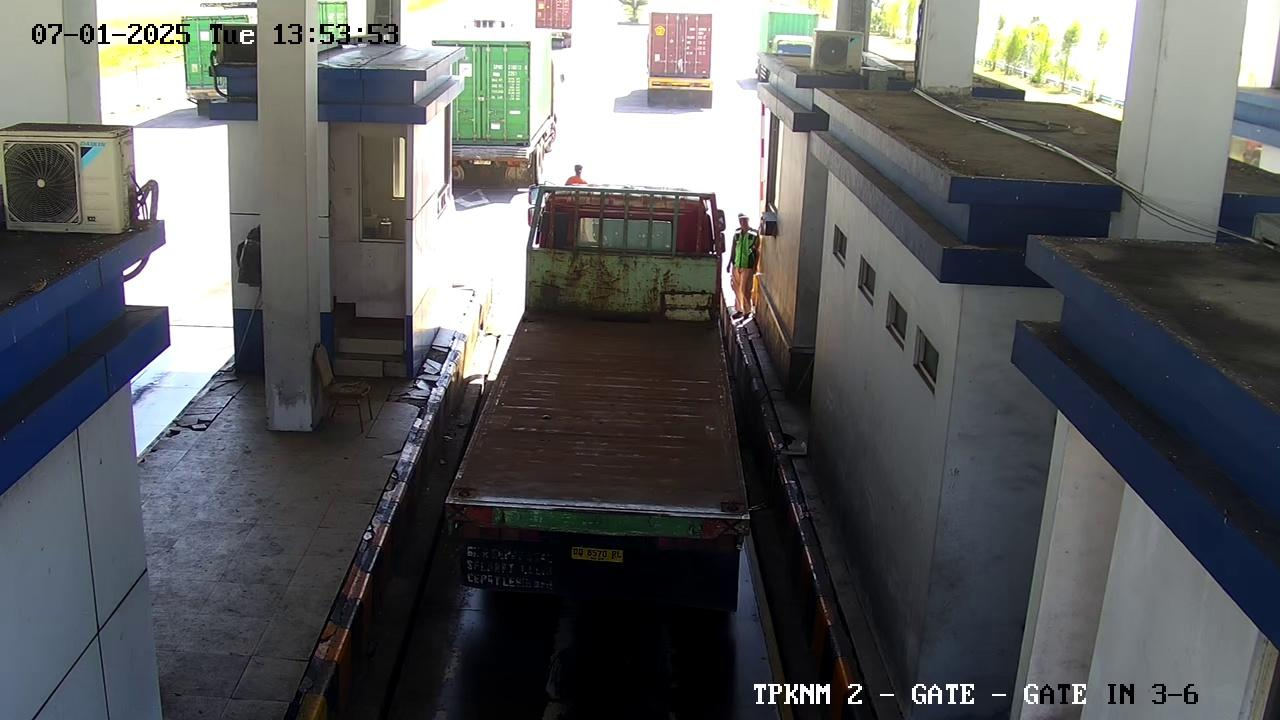plate_number: (562, 535, 635, 574)
